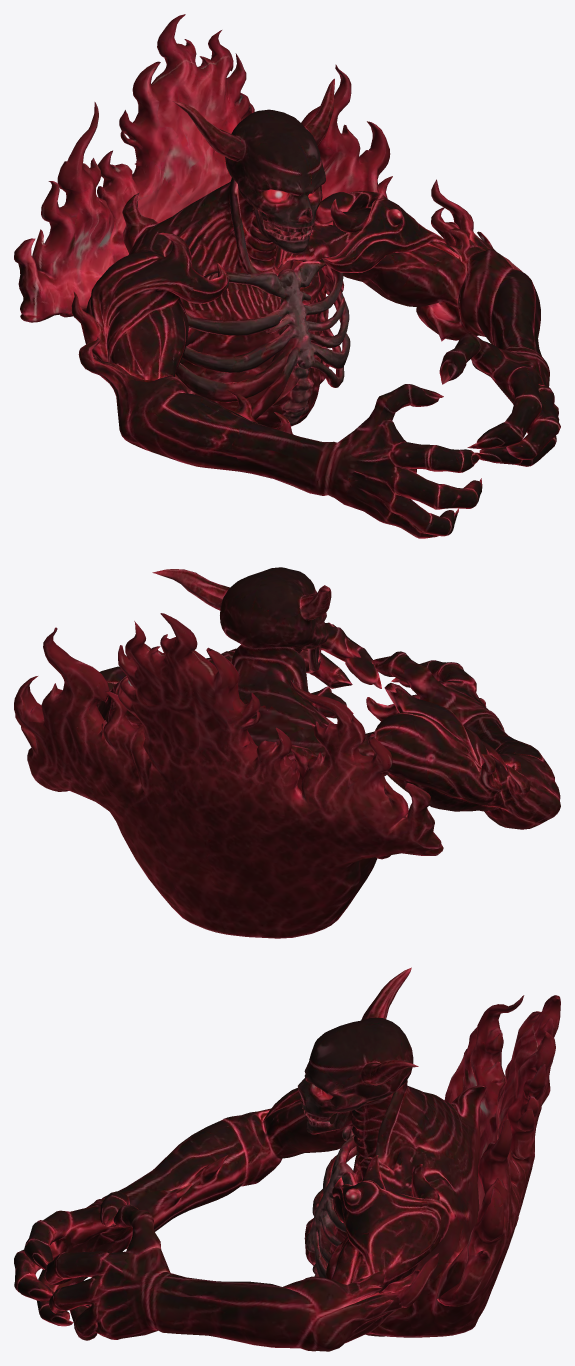
The model's file is susanoo.glb.
3 renders of one model, top to bottom at view 1: azimuth 30°, elevation 25°; view 2: azimuth 150°, elevation 25°; view 3: azimuth 270°, elevation 25°, orthographic. The views are drawn at different scales.
Bounding box in the file's own units: 1.78 × 1.28 × 1.9.
Materials: 1 (1 with a texture image).
